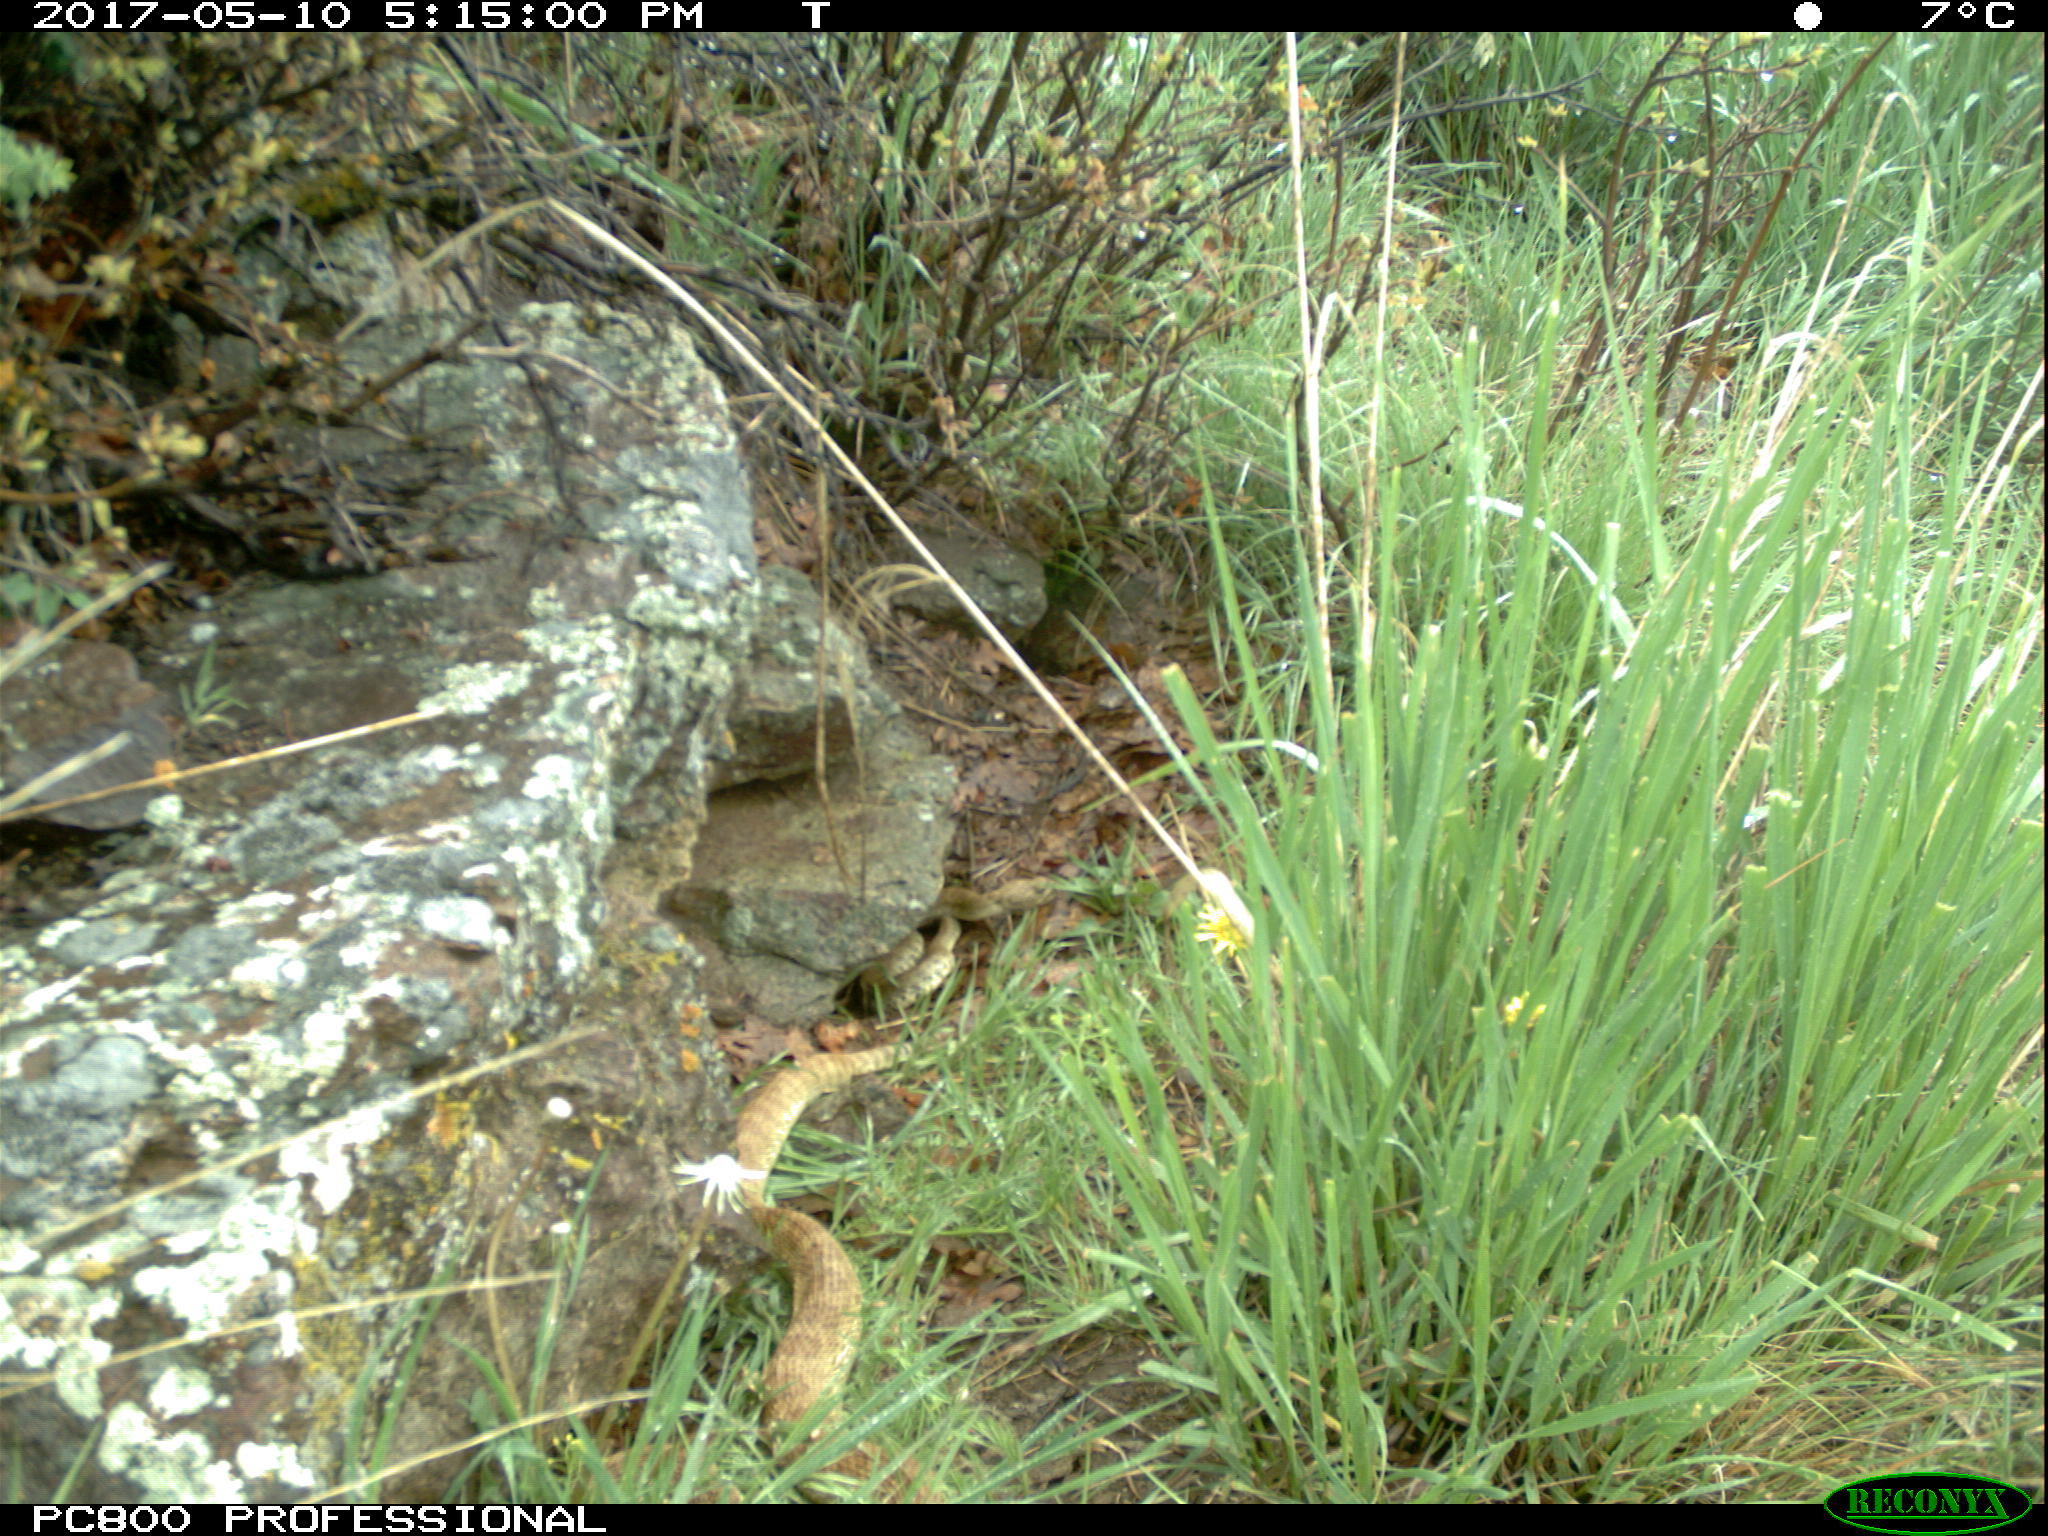snake: (726, 1039, 950, 1502), (847, 874, 1050, 1004), (569, 1446, 742, 1502)
